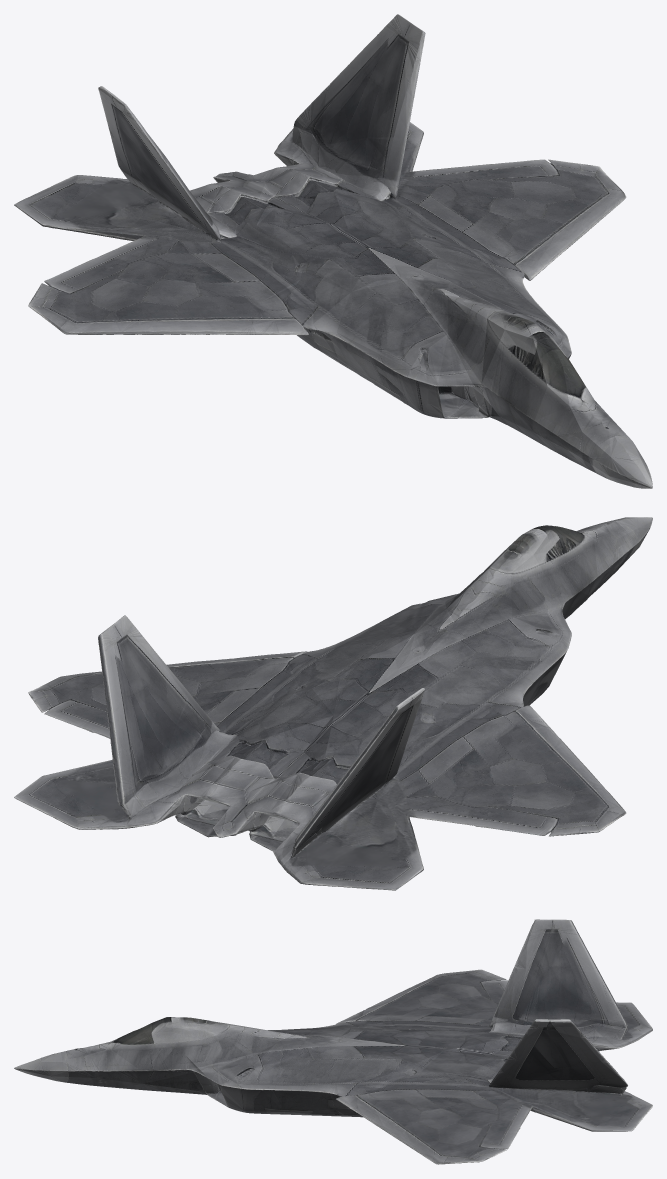
3 views of the same model, one above another, from view 1: azimuth 30°, elevation 25°; view 2: azimuth 150°, elevation 25°; view 3: azimuth 270°, elevation 25° (orthographic). The views are drawn at different scales.
Size of the model in its own units: 1.35 by 0.4152 by 1.9.
1 material, 1 textured.
